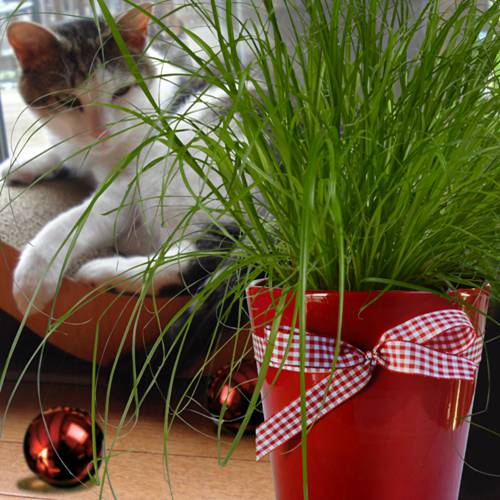cat: (1, 5, 252, 308)
plant: (79, 1, 500, 458)
